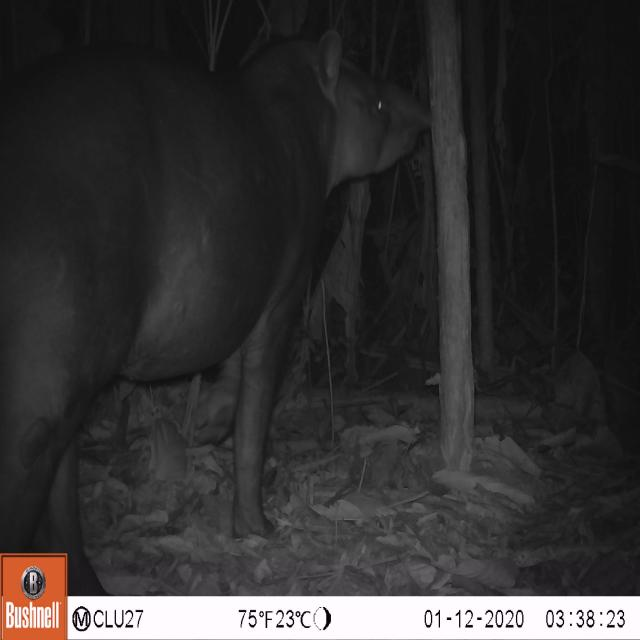Lowland Tapir: (0, 26, 434, 594)
